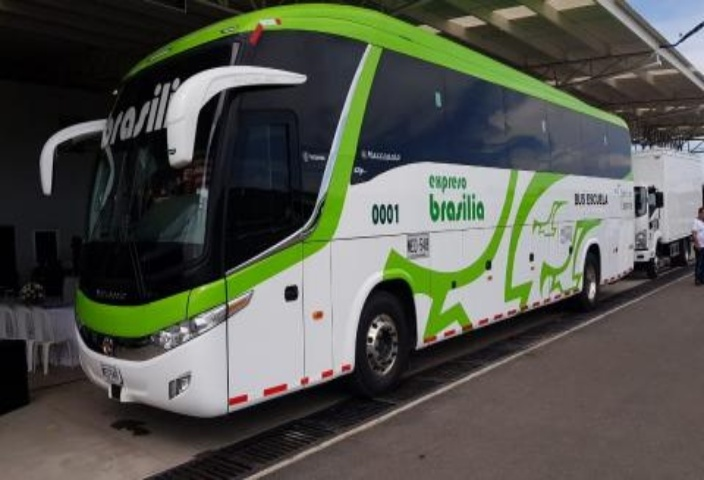bus: (46, 13, 641, 417)
truck: (628, 135, 704, 287)
